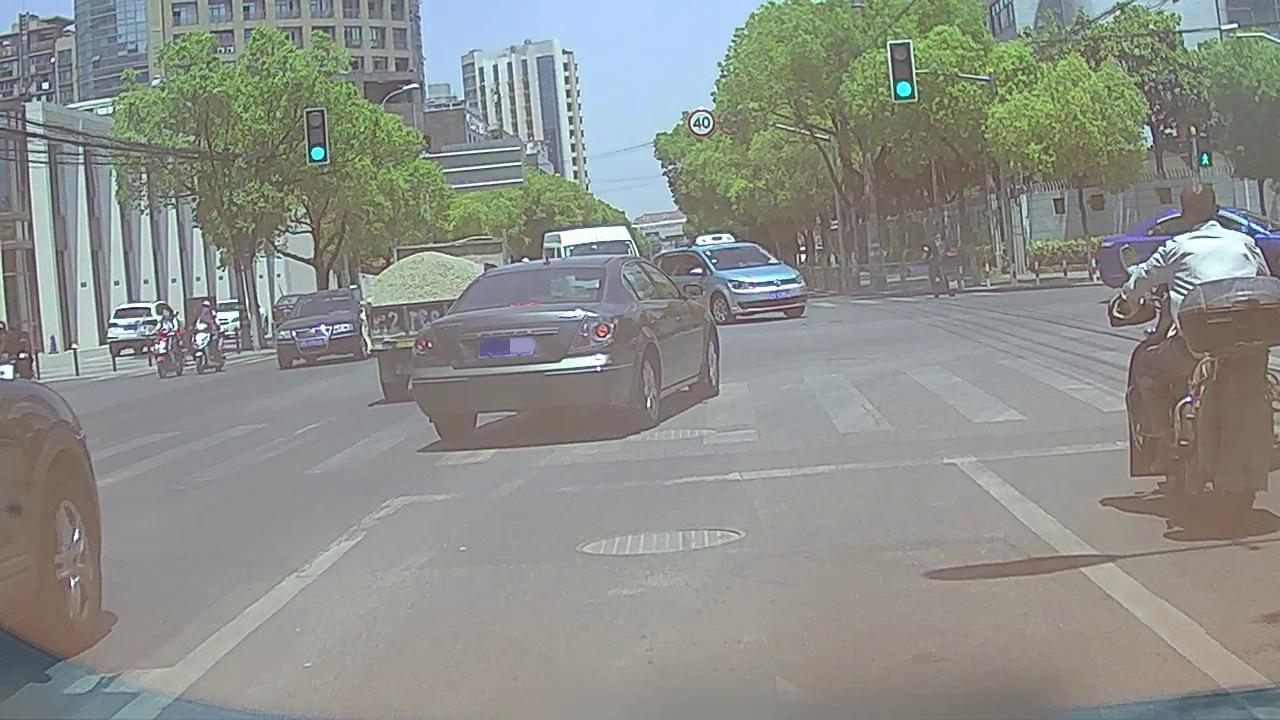traffic_light: (890, 42, 915, 101), (305, 109, 328, 163)
